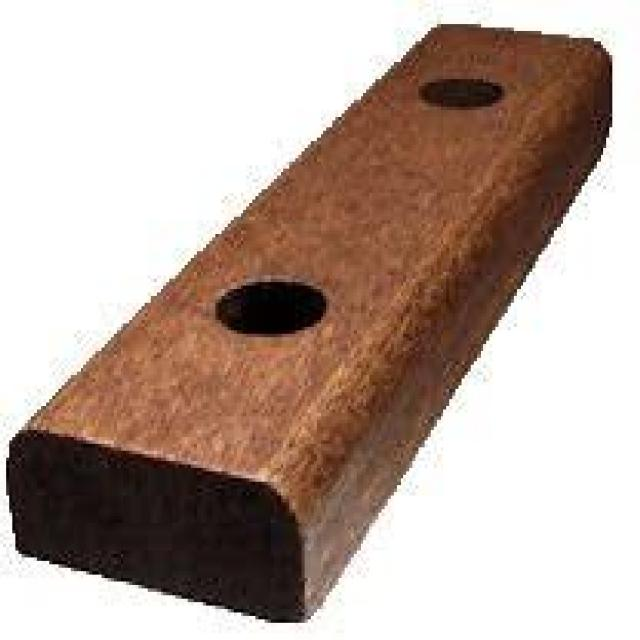Woods: (6, 24, 612, 626)
